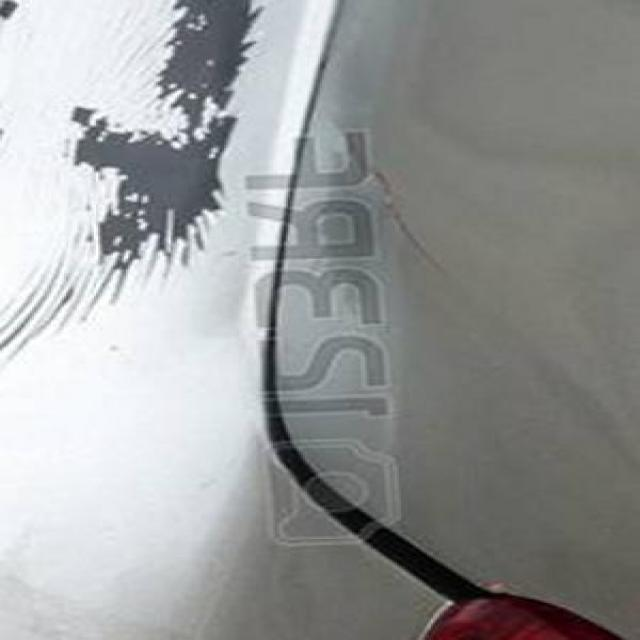scratch: (2, 9, 316, 408)
